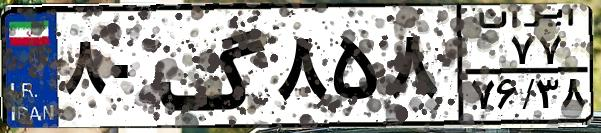0: (110, 28, 156, 98)
3: (535, 70, 560, 125)
5: (330, 28, 385, 110)
6: (495, 70, 520, 125)
7: (537, 27, 568, 80), (508, 27, 537, 80), (470, 70, 495, 125)
8: (270, 28, 330, 110), (385, 28, 445, 110), (57, 26, 110, 100), (560, 70, 590, 125)
گ: (156, 12, 270, 120)
